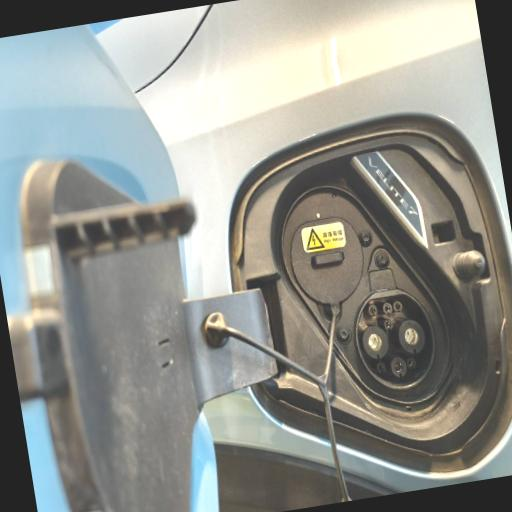DC_charging_port: (346, 282, 442, 398)
DC_hole: (396, 316, 428, 356), (360, 324, 390, 362)
PE: (389, 356, 408, 378)
